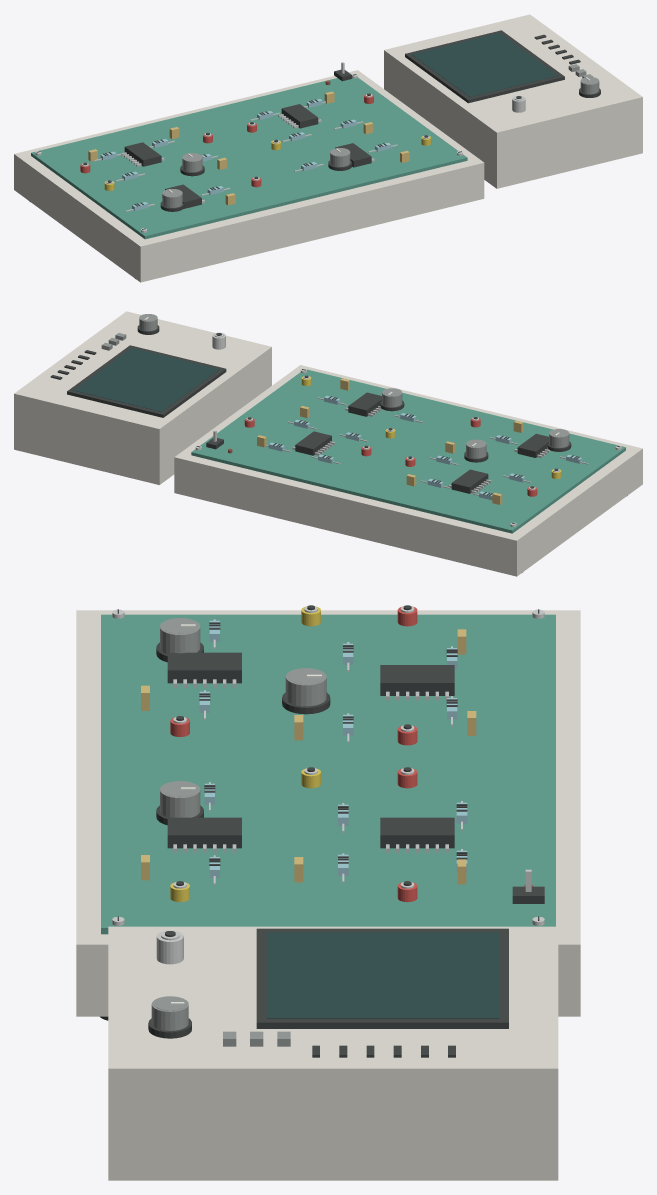
Rendered from dsb-sc-trainer-v2.gltf.
3 views of the same model, one above another, from view 1: azimuth 30°, elevation 25°; view 2: azimuth 150°, elevation 25°; view 3: azimuth 270°, elevation 25° (orthographic). The views are drawn at different scales.
Parts seen in each view (by area): view 1: detail.pcb, trainer.body, scope.body, scope.display, detail.scope.bezel, detail.ic0, detail.ic1, detail.ic3; view 2: detail.pcb, trainer.body, scope.body, scope.display, detail.scope.bezel, detail.ic0, detail.ic1, detail.ic3, detail.ic2; view 3: detail.pcb, scope.body, trainer.body, scope.display, detail.scope.bezel, detail.ic1, detail.ic3, detail.ic2, detail.ic0, modulator.null, source.carrier_frequency, source.message_frequency (+1 smaller).
Boxes of the visible parts, x1,y1,x2,y2 form: detail.pcb: (31, 77, 467, 239); trainer.body: (14, 70, 484, 282); scope.body: (384, 14, 642, 188); scope.display: (412, 33, 557, 97); detail.scope.bezel: (405, 30, 564, 103); detail.ic0: (124, 142, 161, 166); detail.ic1: (281, 104, 318, 128); detail.ic3: (335, 143, 371, 167); detail.pcb: (191, 369, 625, 533); trainer.body: (174, 365, 642, 576); scope.body: (14, 311, 271, 484); scope.display: (74, 348, 219, 411); detail.scope.bezel: (67, 345, 226, 417); detail.ic0: (451, 469, 488, 493); detail.ic1: (295, 431, 331, 455); detail.ic3: (348, 392, 381, 416); detail.ic2: (517, 433, 548, 457); detail.pcb: (101, 614, 555, 934); scope.body: (108, 926, 558, 1180); trainer.body: (76, 610, 580, 1016); scope.display: (266, 932, 498, 1018); detail.scope.bezel: (256, 928, 508, 1028); detail.ic1: (380, 817, 454, 848); detail.ic3: (167, 817, 241, 848); detail.ic2: (167, 652, 241, 683); detail.ic0: (380, 665, 454, 695); modulator.null: (285, 668, 326, 706); source.carrier_frequency: (160, 781, 200, 817); source.message_frequency: (160, 618, 200, 653).
Size of the model in its own units: 2.38 by 0.3345 by 1.02.
